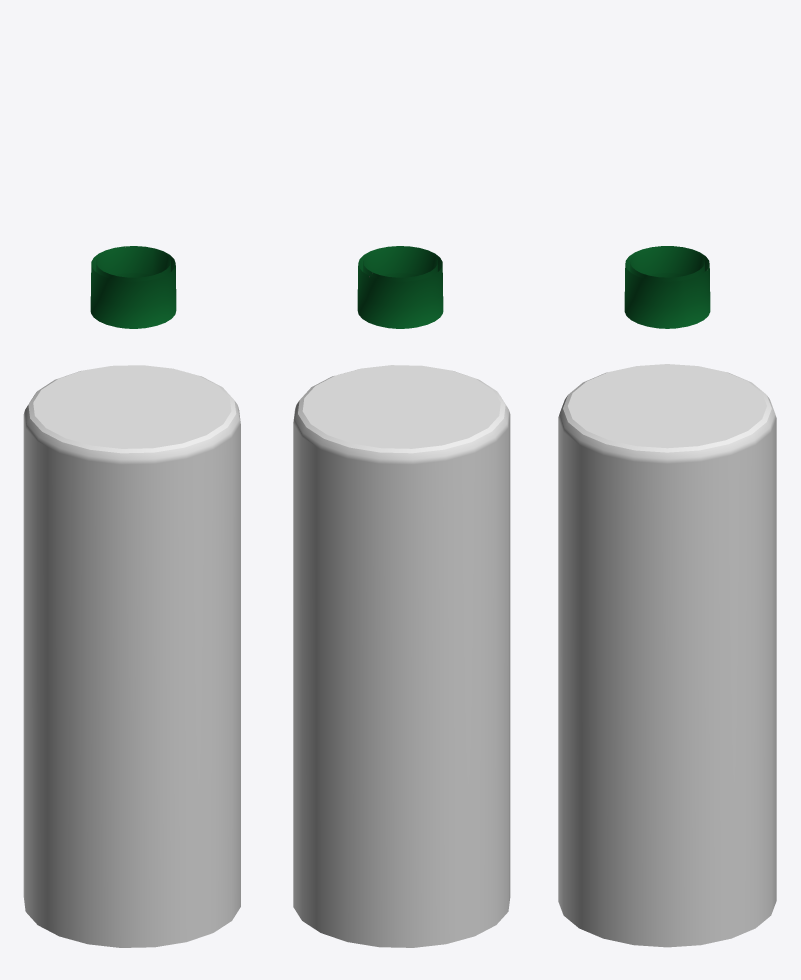
File: Ongthuoc.fbx
3 views of the same model, side by side, from view 1: azimuth 30°, elevation 25°; view 2: azimuth 150°, elevation 25°; view 3: azimuth 270°, elevation 25° (orthographic).
Parts seen in each view (by area): view 1: Nuoc_thuoc, Be_ong_thuoc, Than_ong_thuoc; view 2: Nuoc_thuoc, Be_ong_thuoc, Than_ong_thuoc; view 3: Nuoc_thuoc, Be_ong_thuoc, Than_ong_thuoc.
Boxes of the visible parts, x1,y1,x2,y2 form: Nuoc_thuoc: [23, 365, 240, 947]; Be_ong_thuoc: [91, 246, 175, 306]; Than_ong_thuoc: [90, 273, 176, 328]; Nuoc_thuoc: [293, 365, 510, 947]; Be_ong_thuoc: [358, 246, 442, 306]; Than_ong_thuoc: [357, 273, 443, 328]; Nuoc_thuoc: [558, 364, 776, 947]; Be_ong_thuoc: [625, 246, 709, 306]; Than_ong_thuoc: [624, 273, 710, 328].
Bounding box in the file's own units: 1.88 × 7.81 × 1.88.
Materials: 1 (1 with a texture image).
